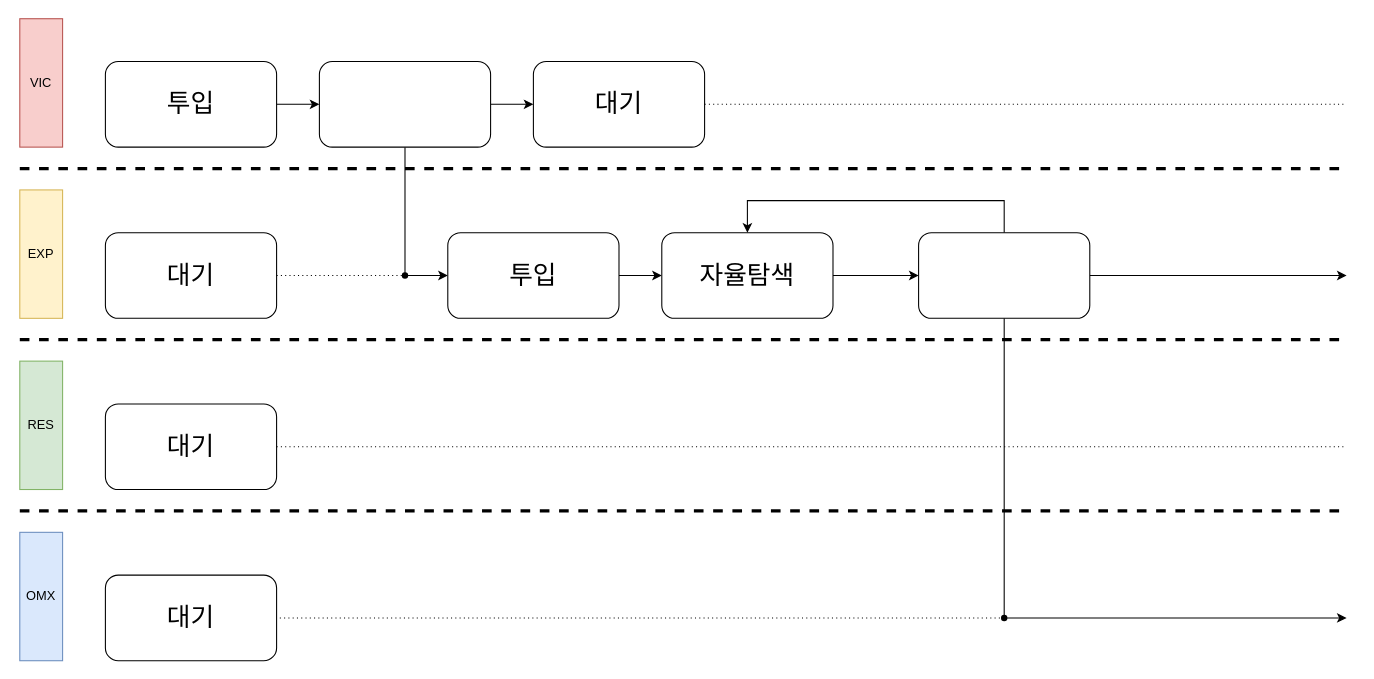
Some shapes in this 1374 by 679 pixel diagram are drawn without their labels. Here are the shapes that lost their labels. From the top down, the centre of each, then its label:
At point 404,103: "경사로 개방".
At point 1004,275: "요구조자 발견".
